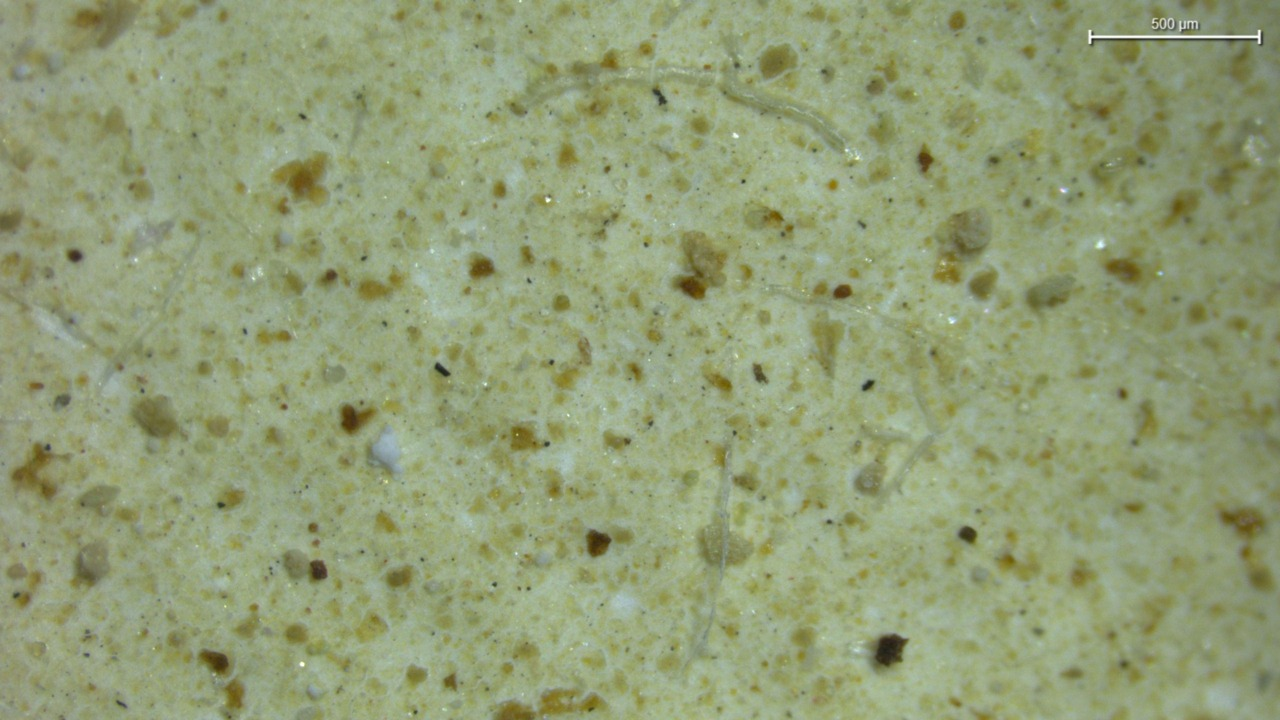microplastic_fragment: (682, 231, 726, 286), (949, 209, 990, 254), (371, 425, 404, 479)
